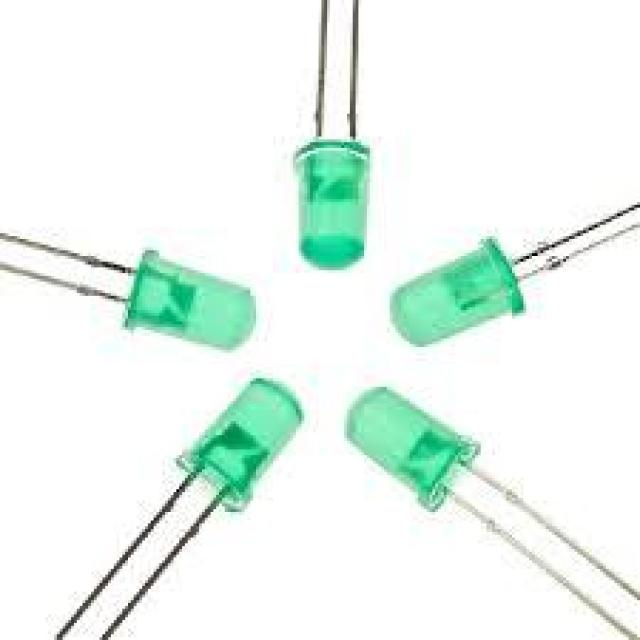Led: (56, 382, 302, 639), (350, 388, 640, 601), (391, 203, 640, 344), (295, 0, 370, 268)
